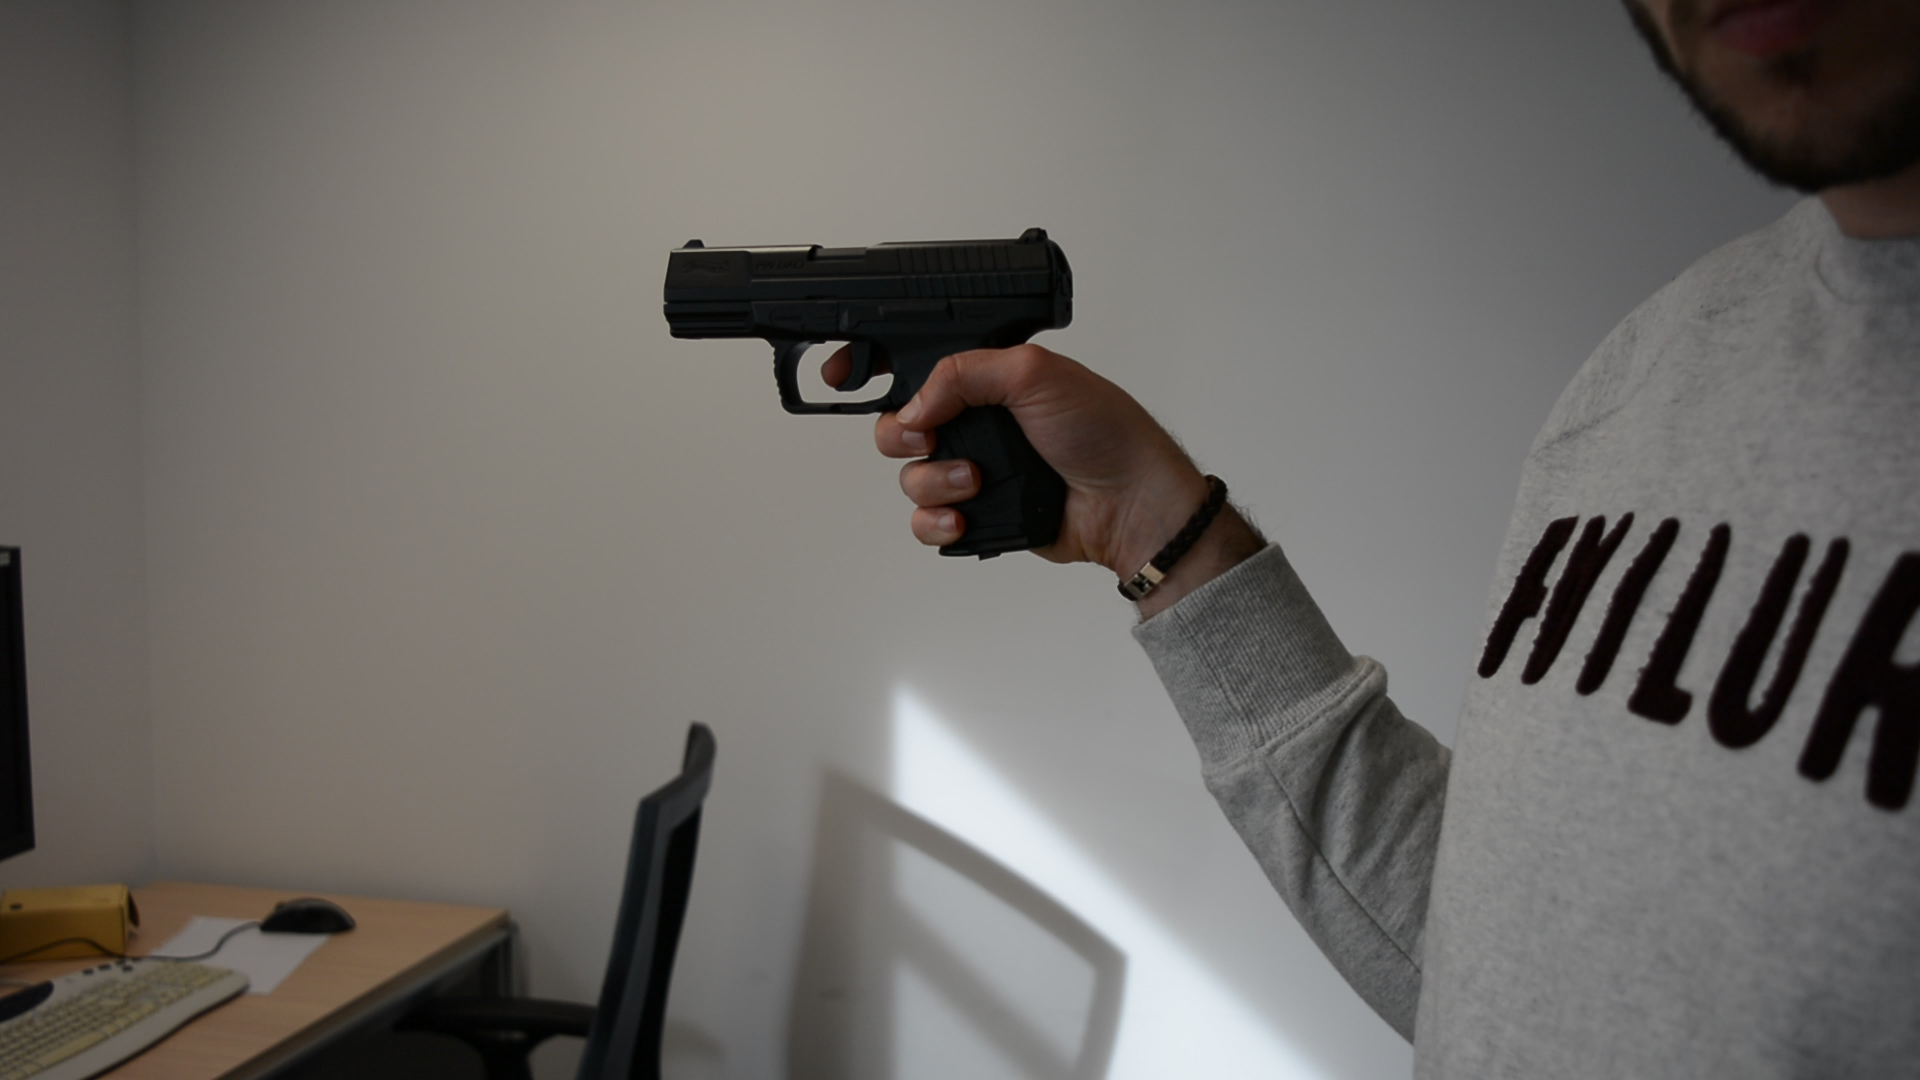pistol: (662, 225, 1075, 560)
